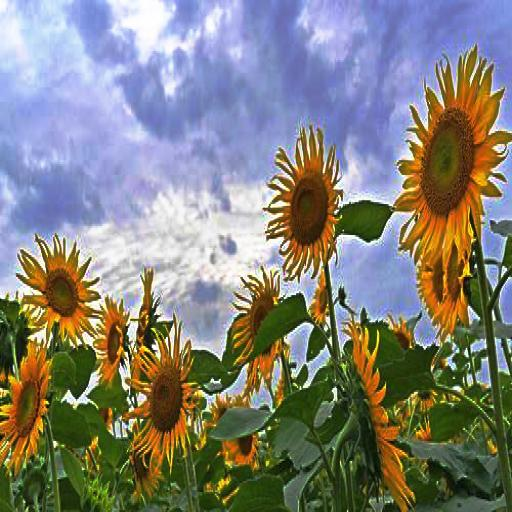sunflower: (396, 49, 512, 270), (348, 324, 418, 512), (267, 126, 339, 270), (129, 320, 200, 466), (18, 230, 102, 342), (1, 339, 54, 468), (234, 264, 286, 379), (414, 226, 456, 330), (440, 222, 478, 322), (95, 300, 126, 382)
